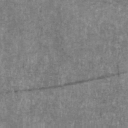finishing roll printing: (16, 70, 128, 92)
